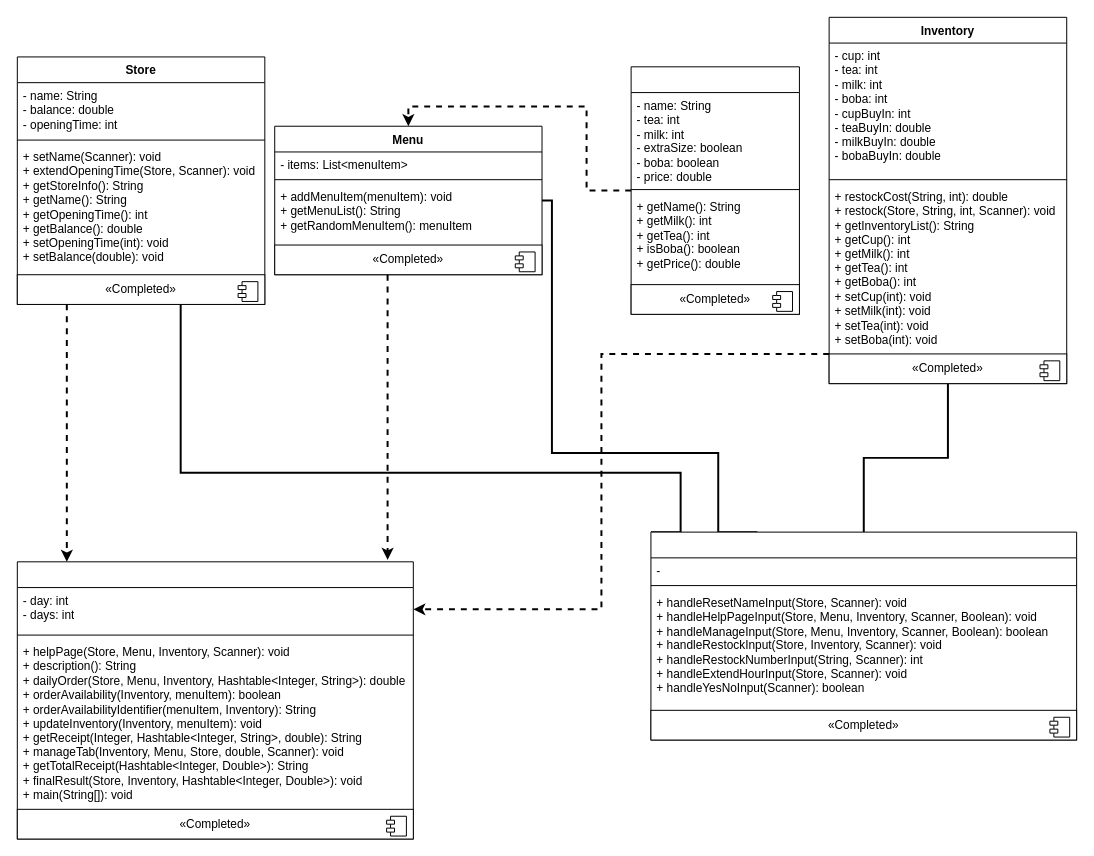
Some shapes in this 1094 by 856 pixel diagram are drawn without their labels. Here are the shapes that lost their labels. From the top down, the box of each, then its label:
(630, 66, 799, 314): menuItem
(650, 531, 1077, 740): handleInput
(16, 561, 413, 839): gameController
